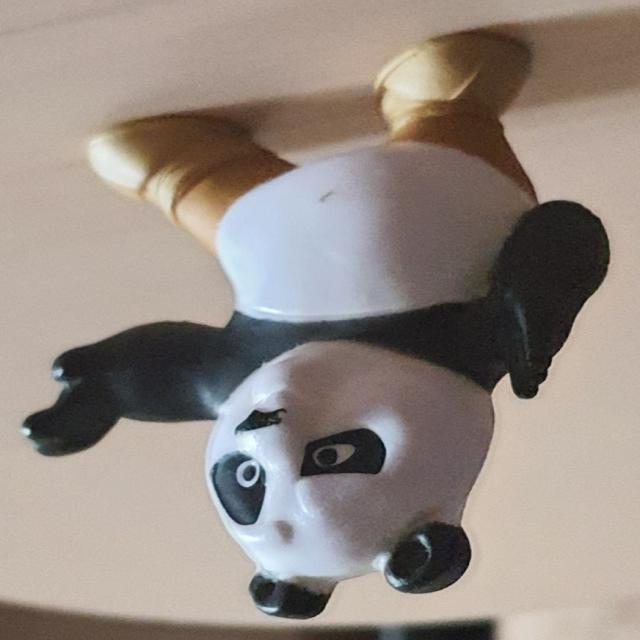Panda: (20, 32, 611, 621)
